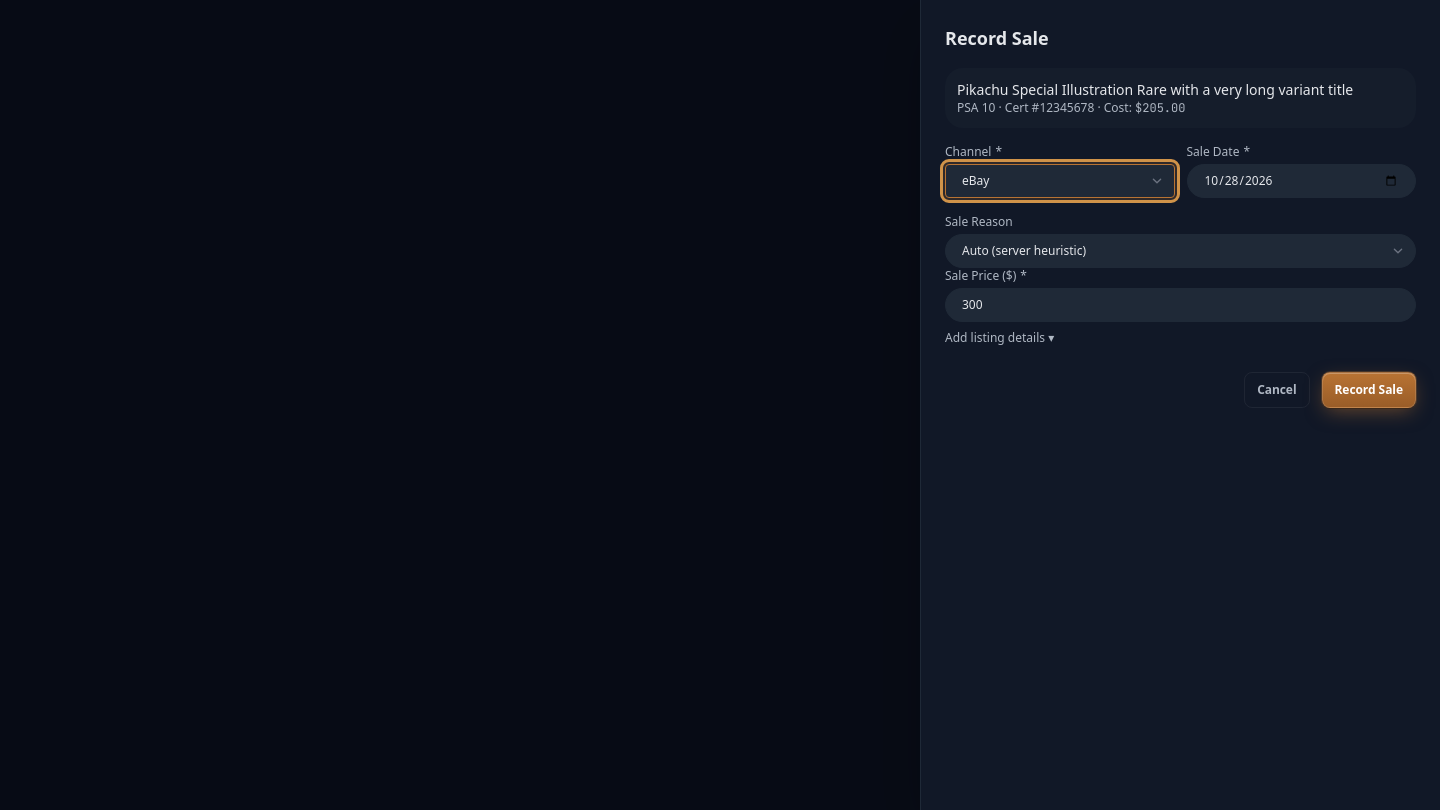
Test: settles actual sale requests after modal-dismiss only when every response body completes (200)
Click the button "Record Sale" at (1369, 390), box [1322,372,1416,408]
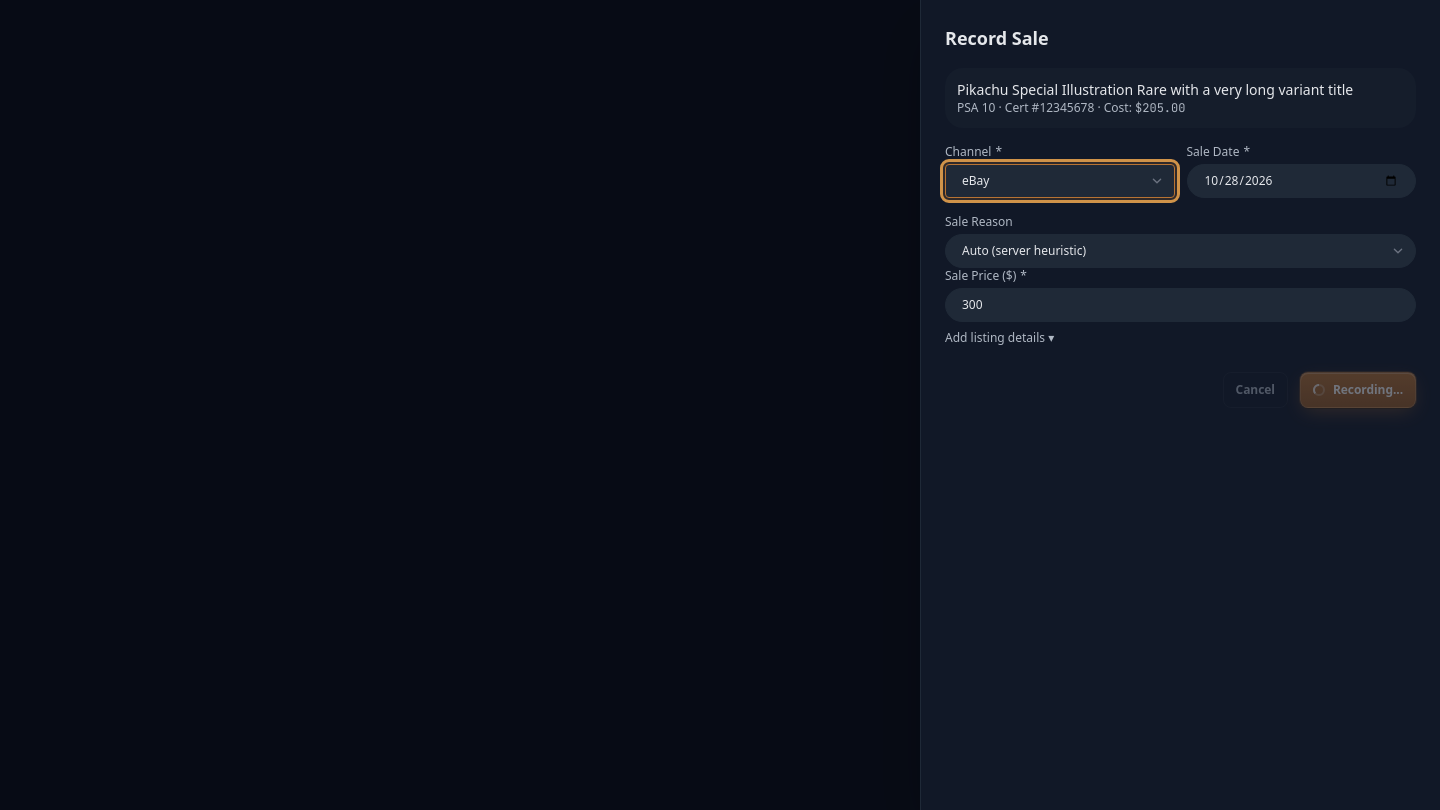
Press Escape in the dialog, box [920,0,1439,809]
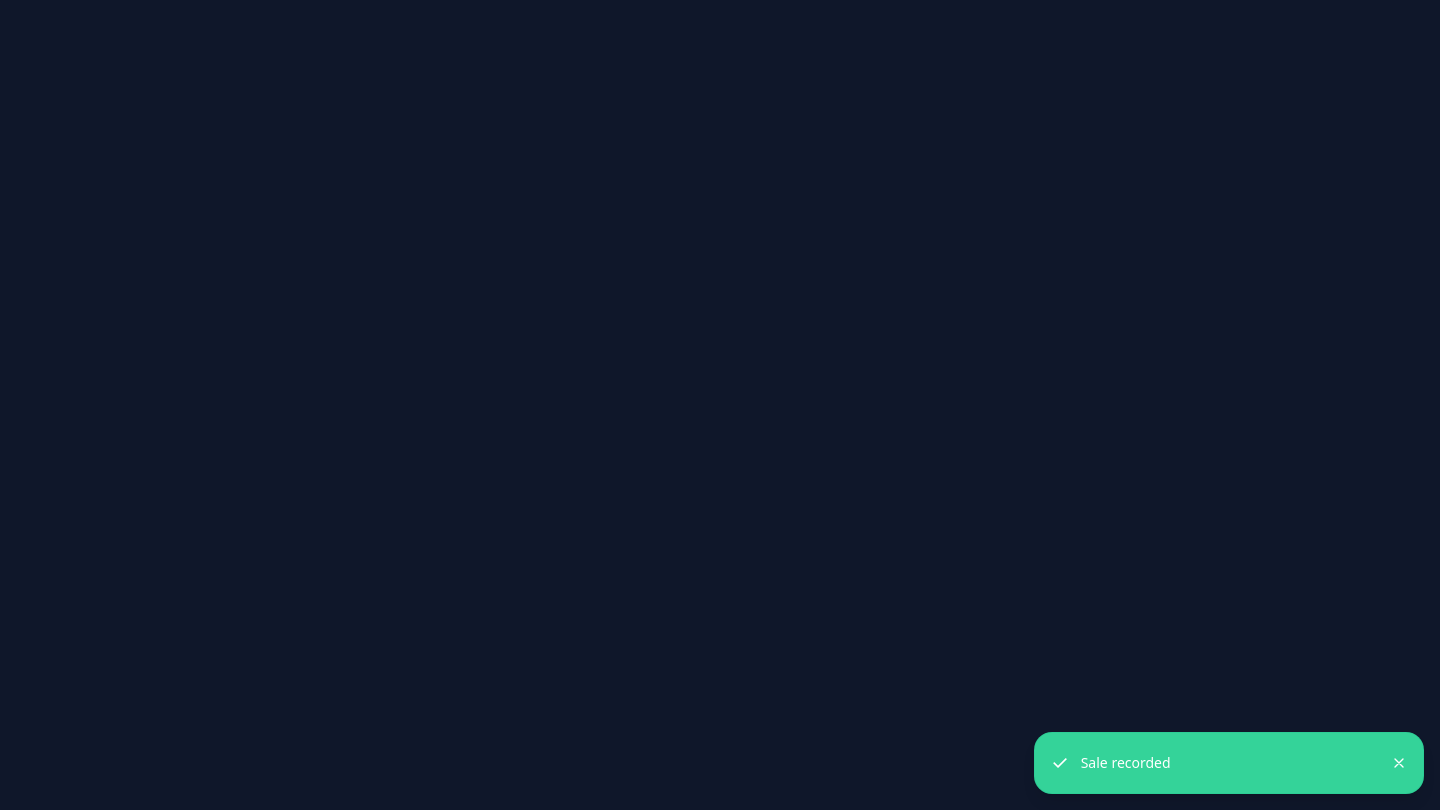
Result: the dialog is gone
